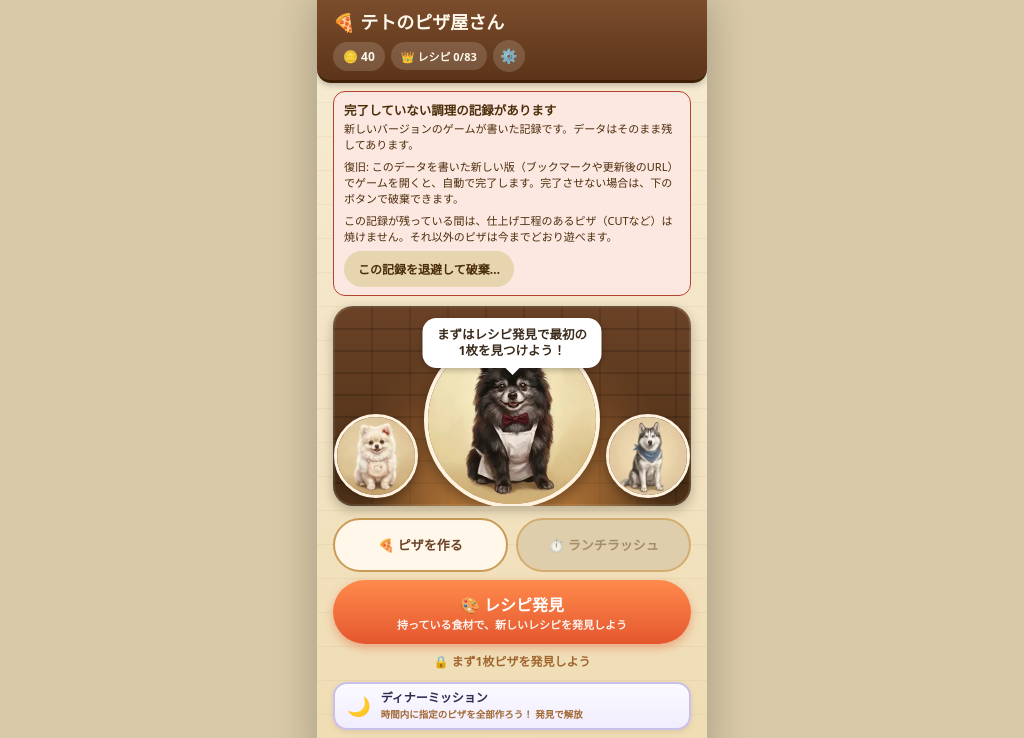
HOME: a kept journal offers the discard › the dialog opens on キャンセル focus, the button stays disabled until every check is ticked, cancel changes nothing
Click the button "この記録を退避して破棄…". click: (429, 269)
box: [344, 251, 514, 287]
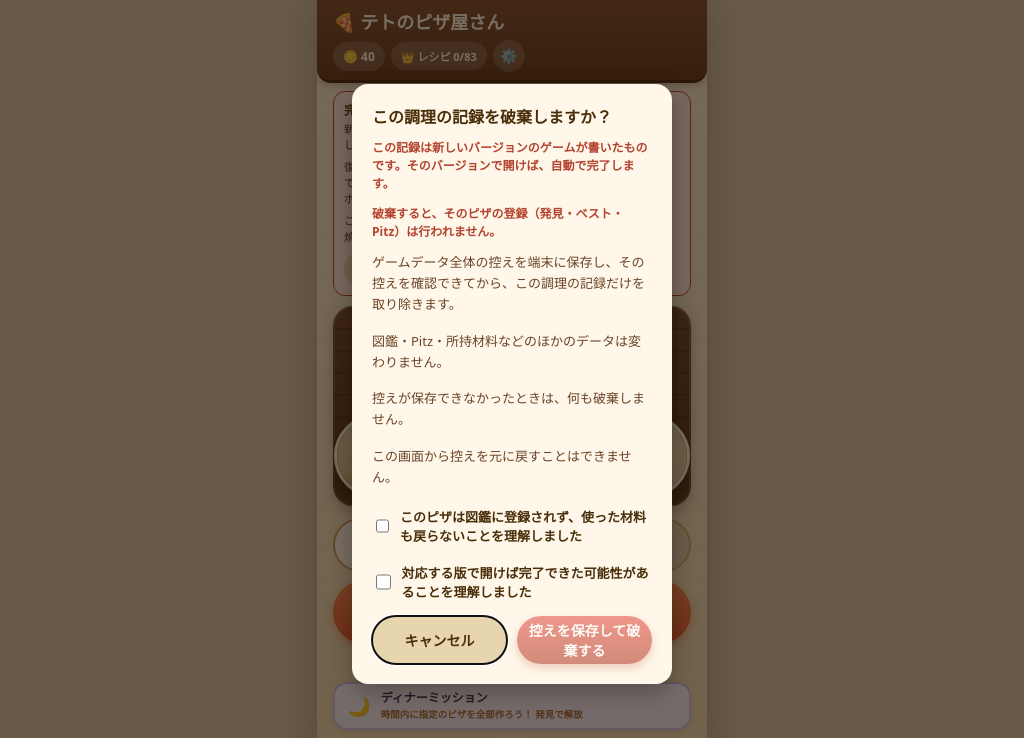
Result: the dialog is shown at [352, 84, 672, 684]
Result: the 2nd message is shown at [372, 138, 652, 240]
Result: the number of checkboxes is 2
Click the checkbox labelled "このピザは図鑑に登録されず、使った材料も戻らないことを理解しました". click: (382, 526)
box: [376, 515, 389, 537]
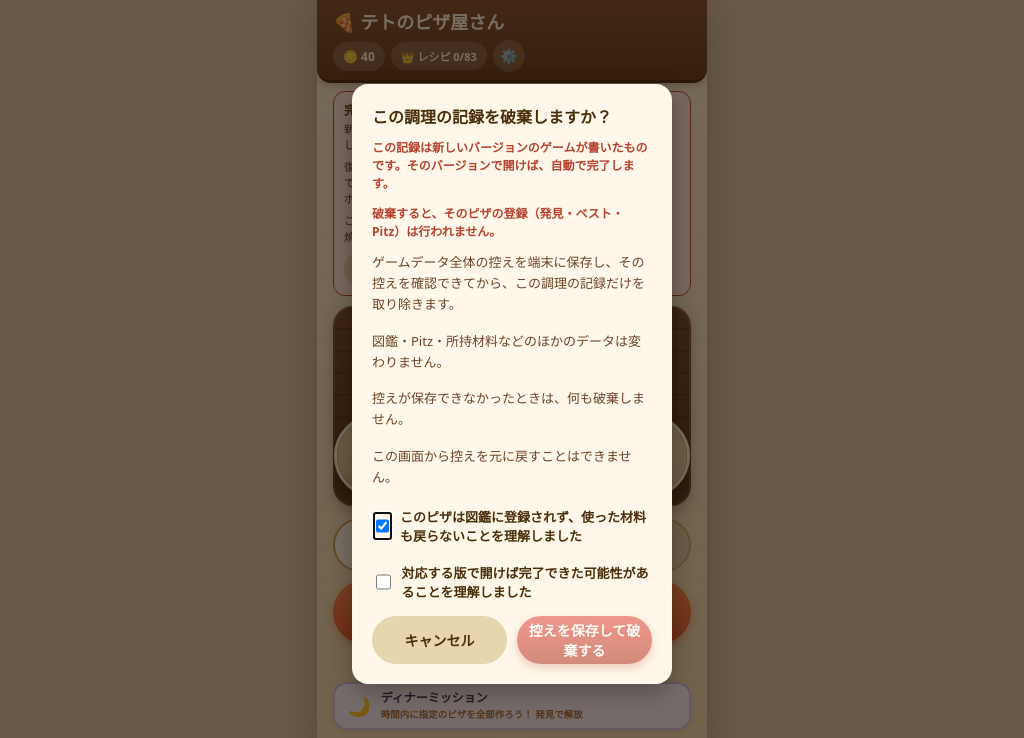
Result: the button "控えを保存して破棄する" is disabled at [517, 616, 652, 664]
Click the checkbox labelled "対応する版で開けば完了できた可能性があることを理解しました". click: (383, 582)
box: [376, 571, 391, 593]
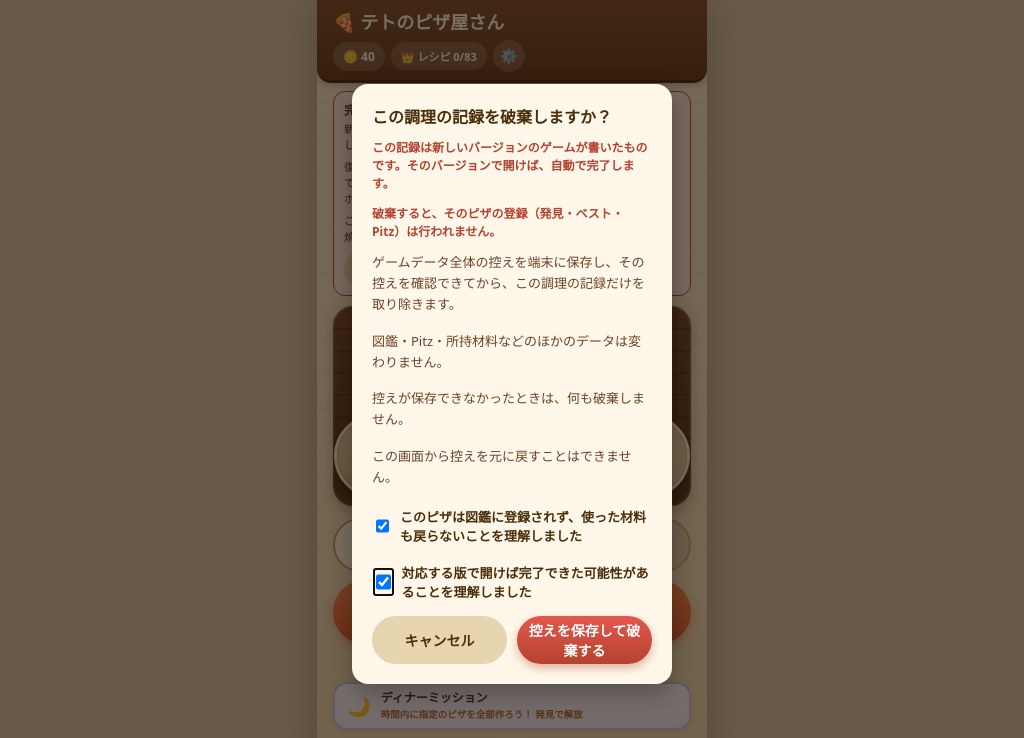
Result: the button "控えを保存して破棄する" is enabled at [517, 616, 652, 664]
Click the button "キャンセル". click: (440, 640)
box: [372, 616, 507, 664]
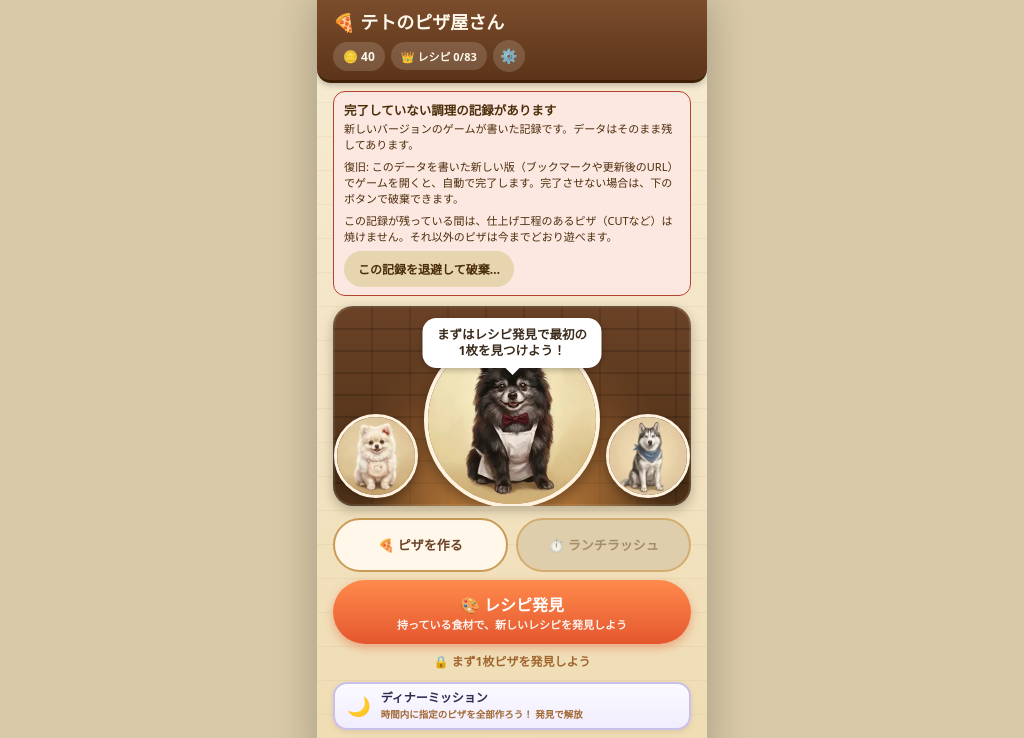
Expected: the message is shown, [333, 91, 691, 296]
Result: the dialog is gone
